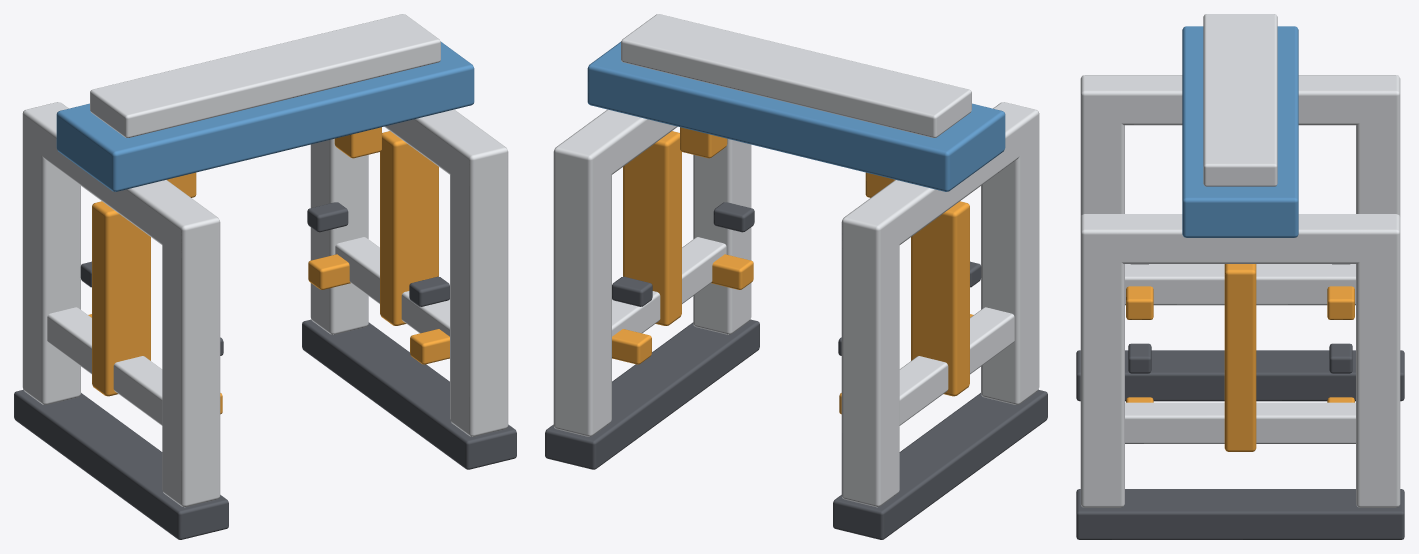
The model's file is framing-station-jig.glb.
3 renders of one model, left to right at view 1: azimuth 30°, elevation 25°; view 2: azimuth 150°, elevation 25°; view 3: azimuth 270°, elevation 25°, orthographic.
Parts seen in each view (by area): view 1: framing-station-jig; view 2: framing-station-jig; view 3: framing-station-jig.
Boxes of the visible parts, x1=… form: framing-station-jig: x1=14, y1=14, x2=516, y2=539; framing-station-jig: x1=545, y1=14, x2=1047, y2=539; framing-station-jig: x1=1076, y1=14, x2=1404, y2=539.
Size of the model in its own units: 3.9 by 3.86 by 3.1.
